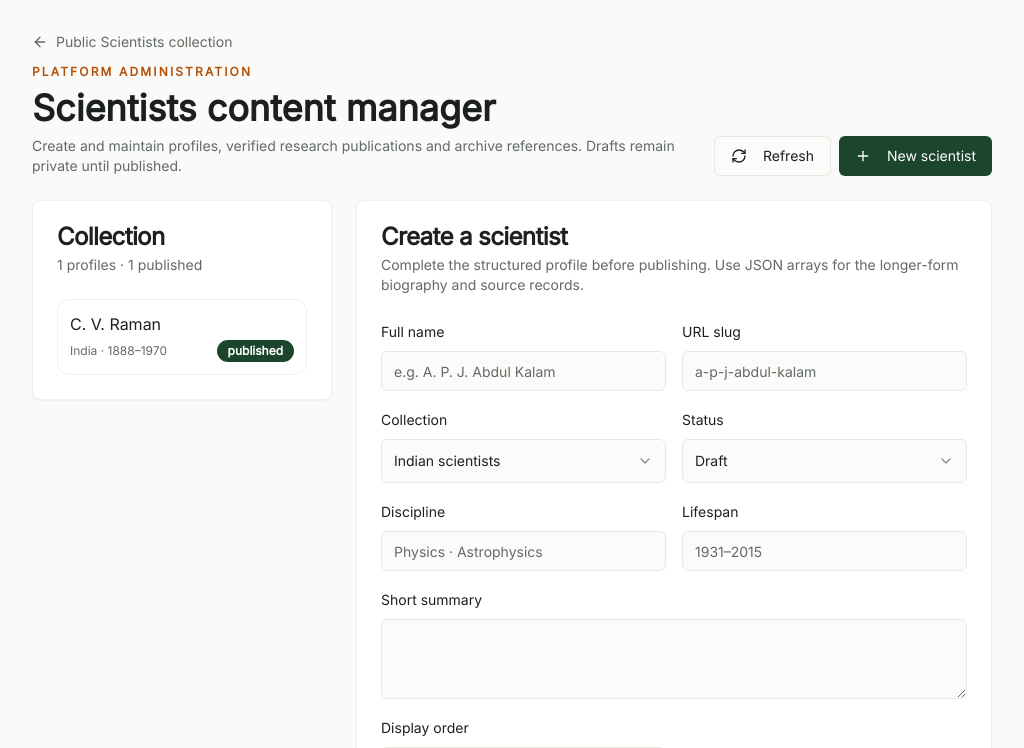
Scenario: AdminScientists › handles delete scientist with confirmation
Later steps or results of the test are not shown.
Click the text "C. V. Raman". click: x=116, y=324
box: [70,314,161,334]
(page scrolled)
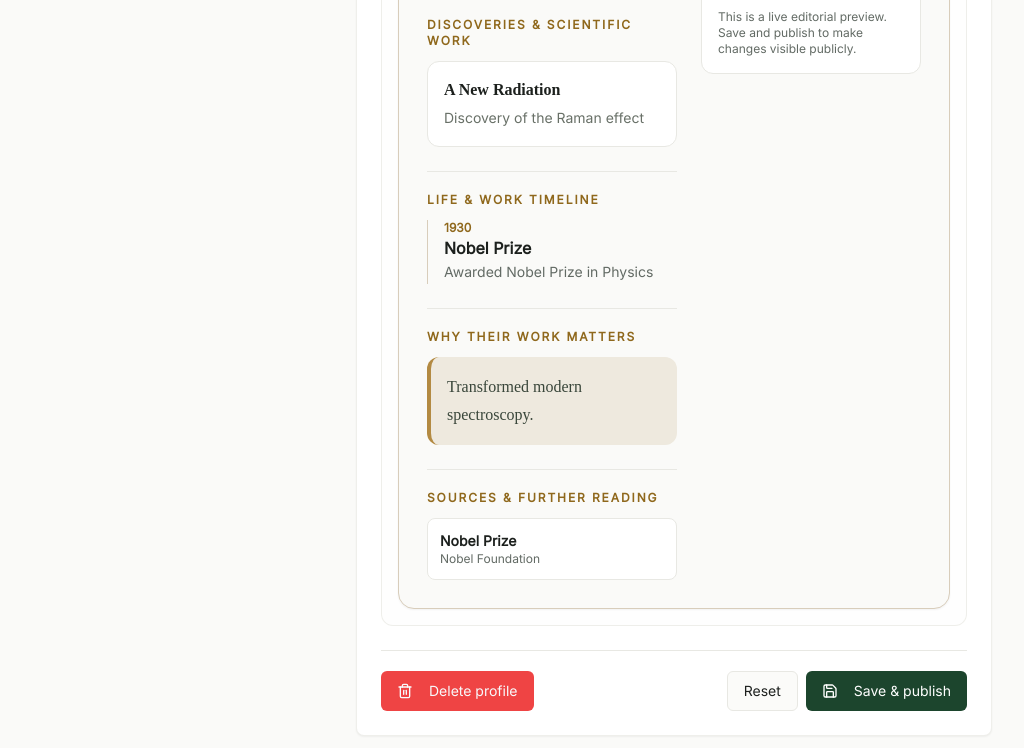
Check: the button "Delete profile" is shown, box [381,671,534,711]
